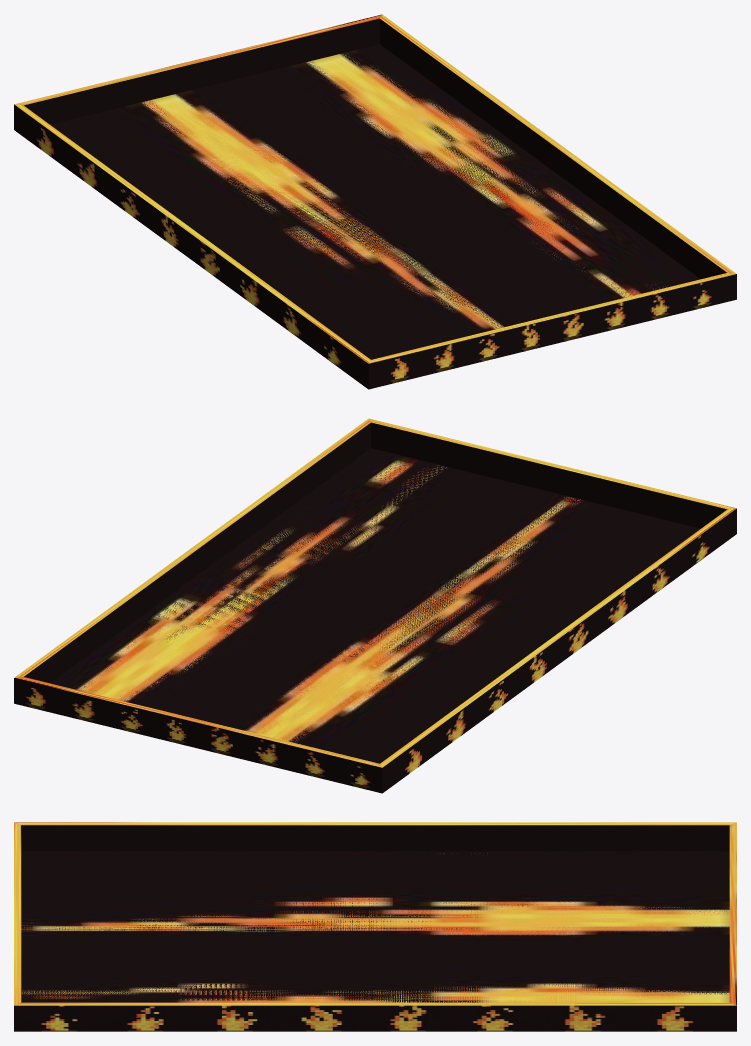
File: tri_fireWalls.obj
3 renders of one model, top to bottom at view 1: azimuth 30°, elevation 25°; view 2: azimuth 150°, elevation 25°; view 3: azimuth 270°, elevation 25°, orthographic.
Parts seen in each view (by area): view 1: Cube; view 2: Cube; view 3: Cube.
Boxes of the visible parts, left/top/right/bottom form: Cube: left=14, top=14, right=736, bottom=389; Cube: left=14, top=418, right=736, bottom=793; Cube: left=14, top=822, right=736, bottom=1031.
Bounding box in the file's own units: 6 × 0.4 × 10.
1 material, 1 textured.
